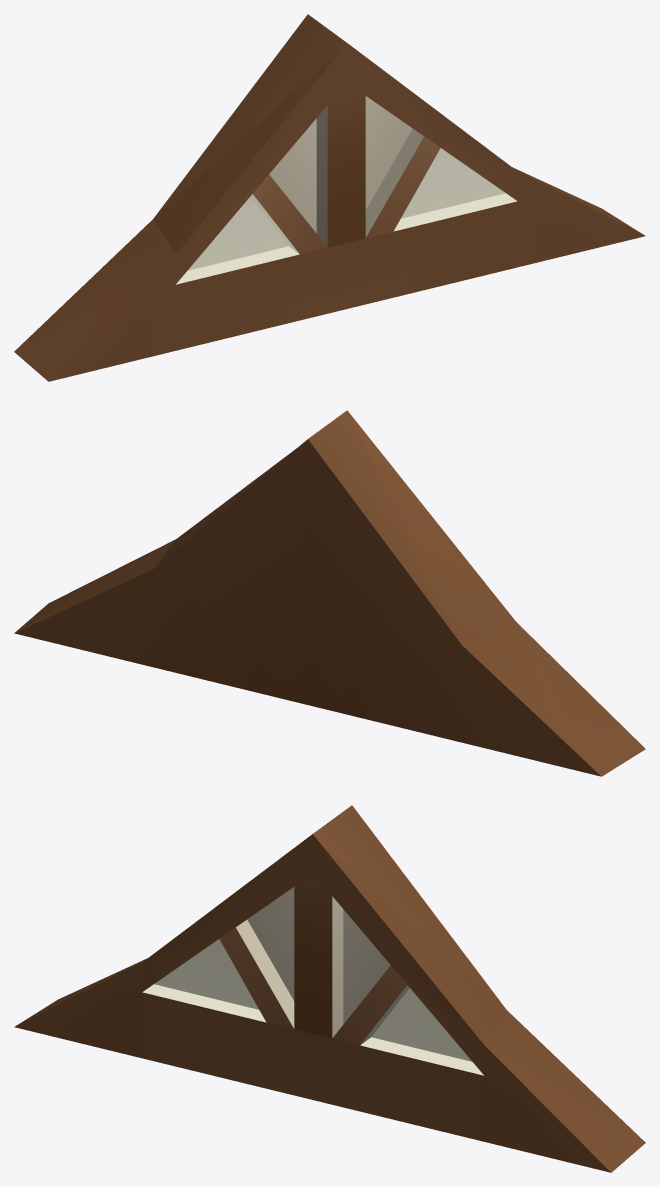
File: House_3x3_Gable.fbx
The picture shows the model from 3 angles, top to bottom: view 1: azimuth 30°, elevation 25°; view 2: azimuth 150°, elevation 25°; view 3: azimuth 330°, elevation 25°; orthographic projection.
Parts seen in each view (by area): view 1: House_3x3_Gable; view 2: House_3x3_Gable; view 3: House_3x3_Gable.
Boxes of the visible parts, x1,y1,x2,y2 form: House_3x3_Gable: (14,14,645,381); House_3x3_Gable: (14,410,645,776); House_3x3_Gable: (14,805,645,1172).
Bounding box in the file's own units: 3.28 × 1.4 × 0.3798.
1 material, 1 textured.
